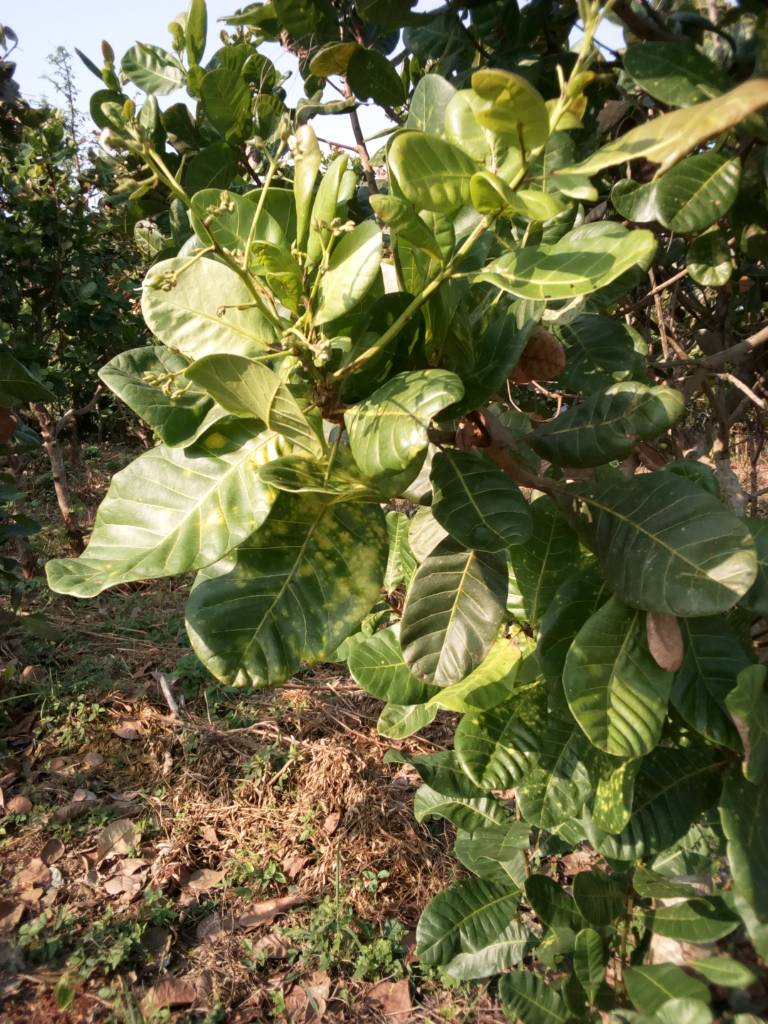Alternariose: (190, 489, 386, 683), (543, 739, 630, 836)
